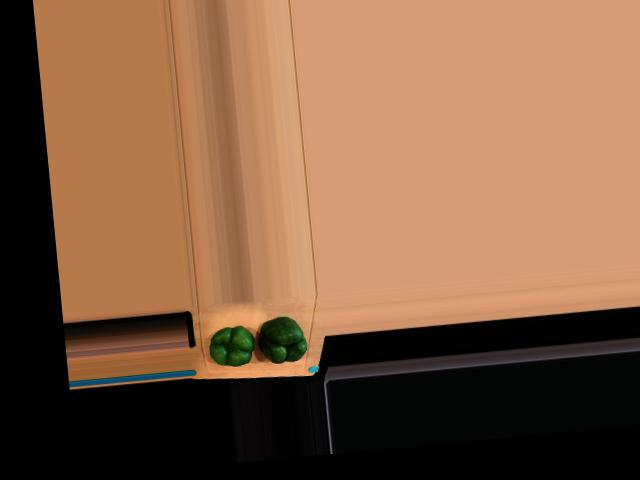bell_pepper: (207, 318, 258, 369)
